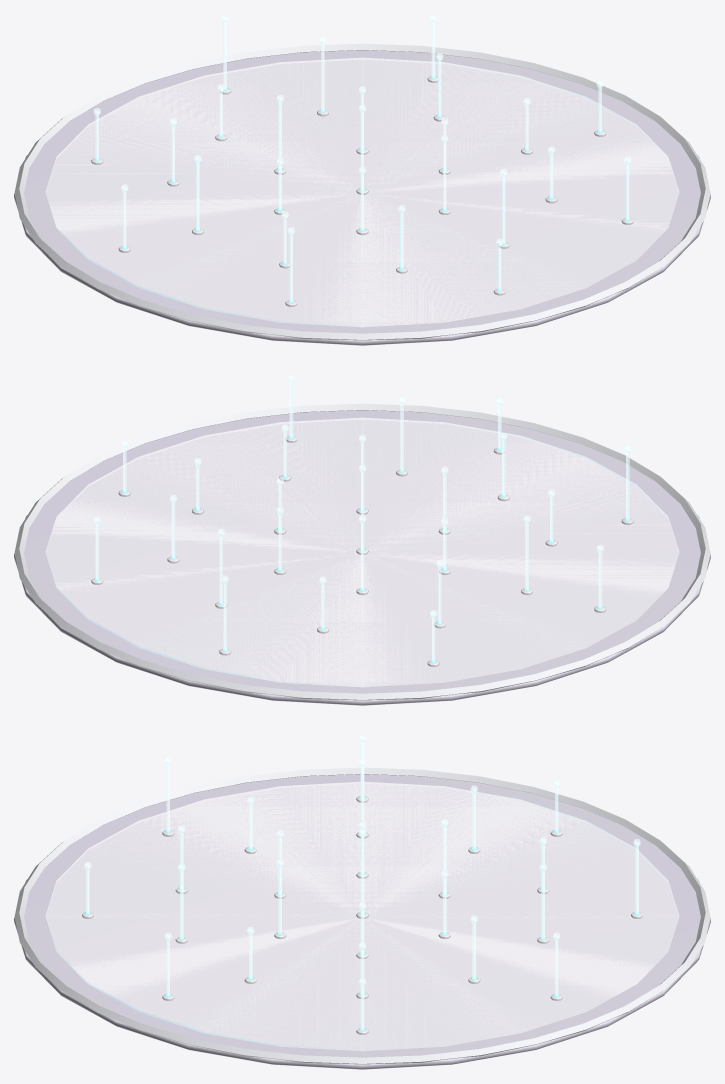
The model's file is ground_fountain_jets.glb.
The picture shows the model from 3 angles, top to bottom: view 1: azimuth 30°, elevation 25°; view 2: azimuth 150°, elevation 25°; view 3: azimuth 270°, elevation 25°; orthographic projection.
Parts seen in each view (by area): view 1: ground_fountain_jets; view 2: ground_fountain_jets; view 3: ground_fountain_jets.
Part boxes in pixels (x1,y1,x2,y2): ground_fountain_jets: (14,14,710,345); ground_fountain_jets: (14,374,710,705); ground_fountain_jets: (14,734,710,1069).
Size of the model in its own units: 6.6 by 0.99 by 6.6.
